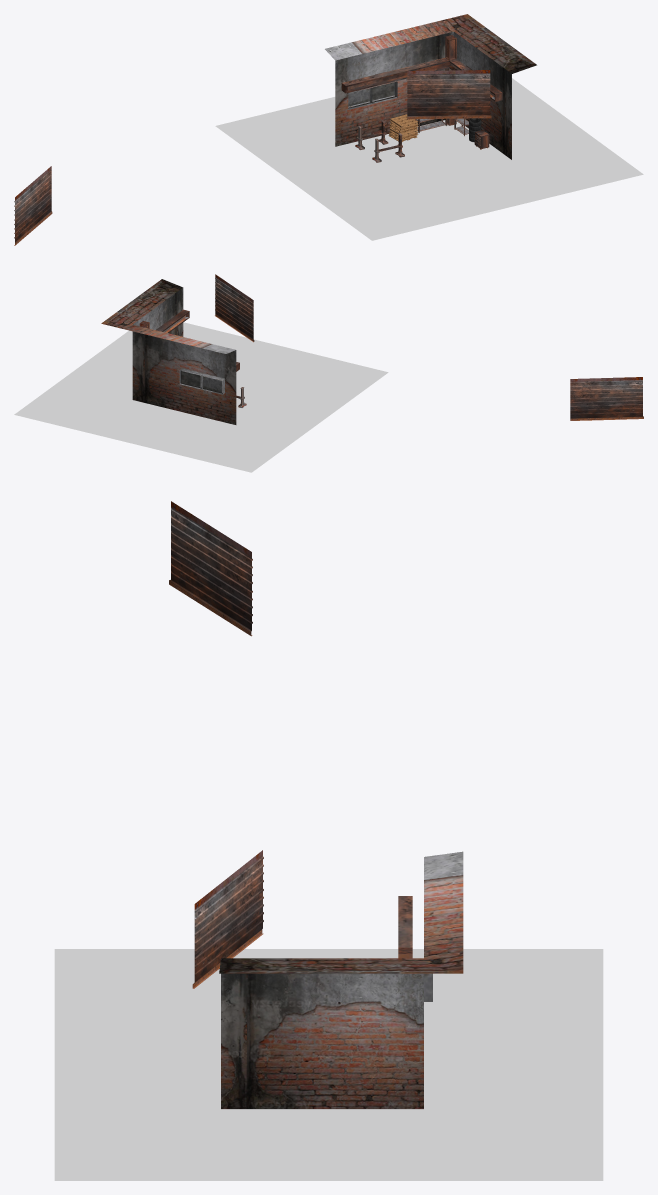
Rendered from Garaje_Player1.fbx.
3 views of the same model, one above another, from view 1: azimuth 30°, elevation 25°; view 2: azimuth 150°, elevation 25°; view 3: azimuth 270°, elevation 25° (orthographic). The views are drawn at different scales.
Visible parts, largest first — view 1: suelo, Pared, garage_berja, Bigas, garage_berja.001, pales01, soporte; view 2: suelo, Pared, garage_berja.001, garage_berja, Bigas; view 3: suelo, Pared, garage_berja.001, garage_berja, Bigas.
Boxes of the visible parts, <box> form: suelo: <box>215,78,643,240</box>; Pared: <box>325,14,536,159</box>; garage_berja: <box>407,70,491,119</box>; Bigas: <box>341,35,502,125</box>; garage_berja.001: <box>14,166,52,245</box>; pales01: <box>388,114,418,141</box>; soporte: <box>355,120,404,162</box>; suelo: <box>14,322,388,472</box>; Pared: <box>101,279,236,424</box>; garage_berja.001: <box>570,377,643,420</box>; garage_berja: <box>215,274,254,342</box>; Bigas: <box>139,309,239,371</box>; suelo: <box>54,949,603,1180</box>; Pared: <box>219,851,463,1108</box>; garage_berja.001: <box>169,501,252,636</box>; garage_berja: <box>192,850,263,988</box>; Bigas: <box>398,896,412,958</box>.
Bounding box in the file's own units: 10606 × 1759 × 4831.
